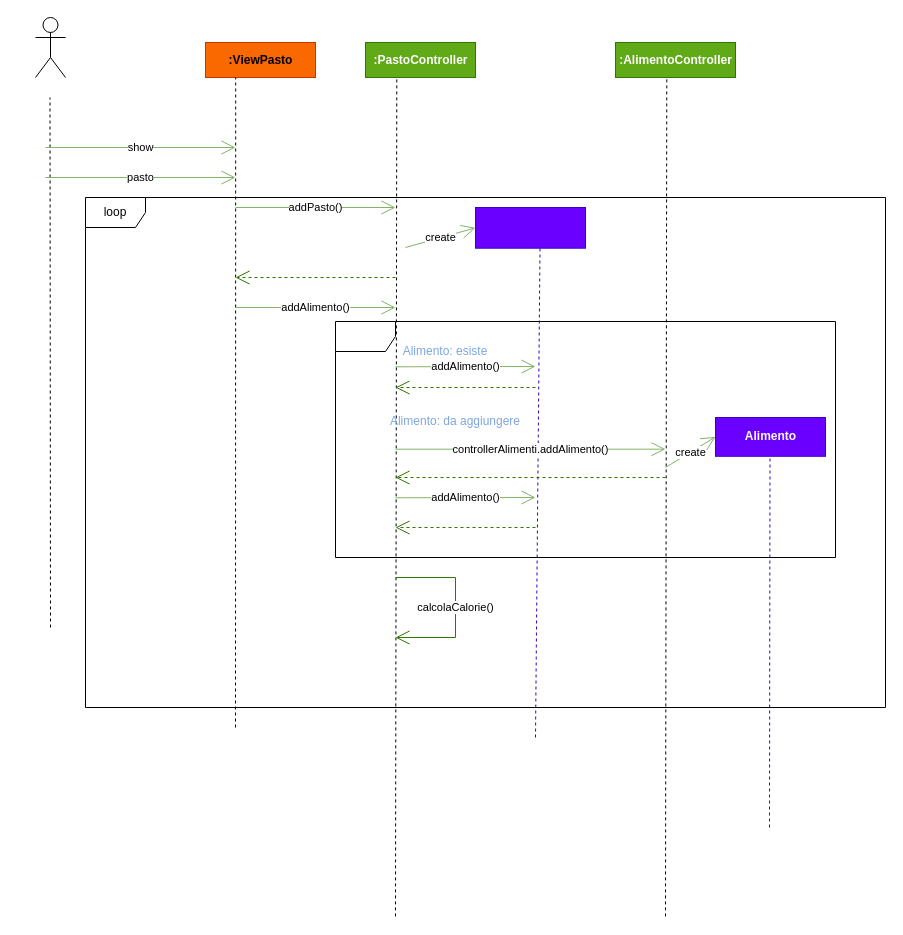
Some shapes in this 903 by 935 pixel diagram are drawn without their labels. The box of each missing label's shape, as (x1, y1, x2, y2) in pixels:
:Pasto: (474, 206, 586, 248)
alt: (334, 320, 836, 558)
Nutrizionista: (34, 16, 66, 78)
